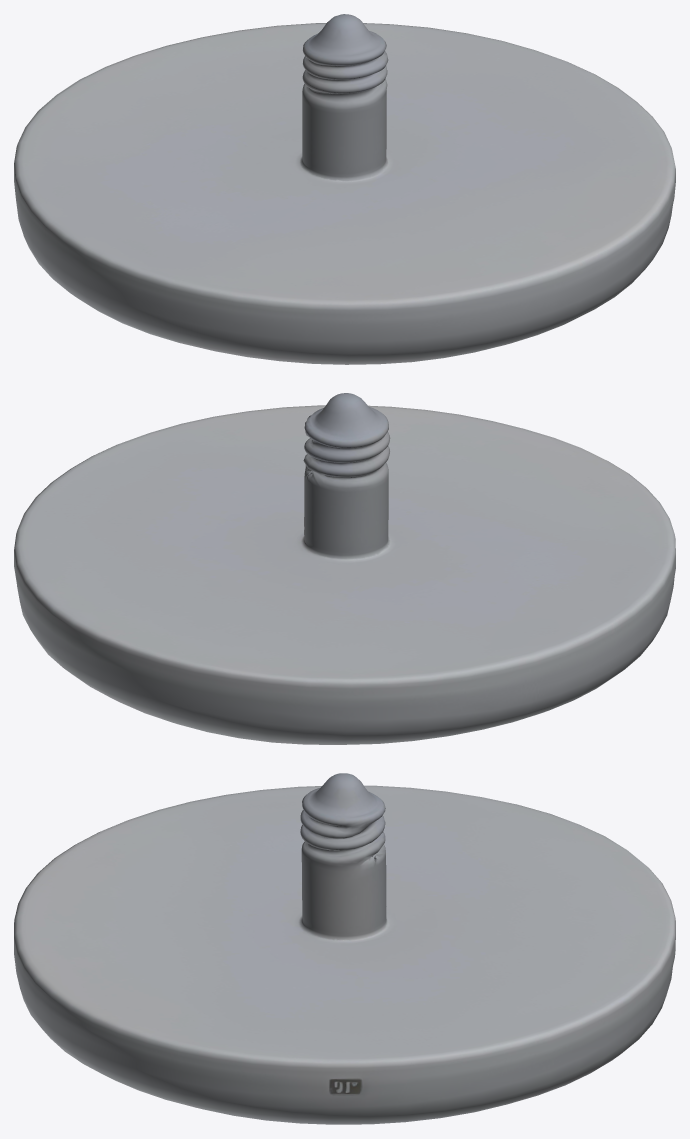
The picture shows the model from 3 angles, top to bottom: view 1: azimuth 30°, elevation 25°; view 2: azimuth 150°, elevation 25°; view 3: azimuth 270°, elevation 25°; orthographic projection.
Parts seen in each view (by area): view 1: tripo_node_3e971e17-0341-4450-8387-18a72da0ed47; view 2: tripo_node_3e971e17-0341-4450-8387-18a72da0ed47; view 3: tripo_node_3e971e17-0341-4450-8387-18a72da0ed47.
Boxes of the visible parts, x1=… form: tripo_node_3e971e17-0341-4450-8387-18a72da0ed47: x1=14, y1=14, x2=675, y2=364; tripo_node_3e971e17-0341-4450-8387-18a72da0ed47: x1=14, y1=393, x2=675, y2=744; tripo_node_3e971e17-0341-4450-8387-18a72da0ed47: x1=14, y1=773, x2=675, y2=1124.
Size of the model in its own units: 0.9966 by 0.4368 by 0.9985.
Materials: 1 (1 with a texture image).
